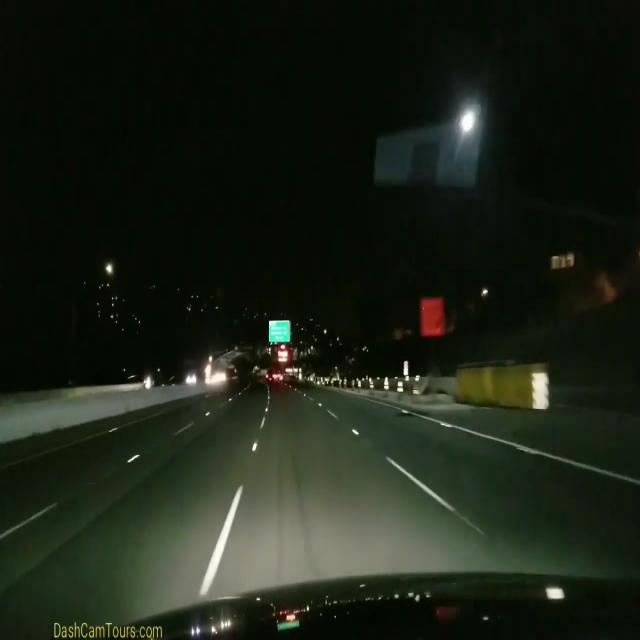street-signs: (269, 320, 290, 342)
